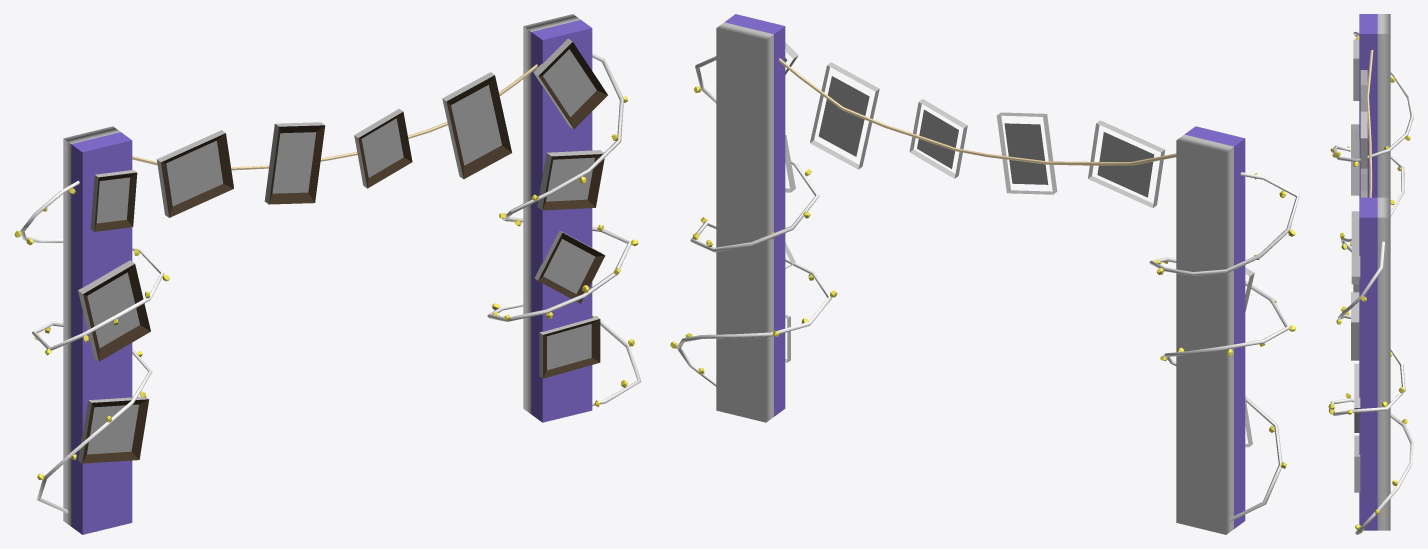
Rendered from SM_WallsDressingRoom_001 1.fbx.
3 renders of one model, left to right at view 1: azimuth 30°, elevation 25°; view 2: azimuth 150°, elevation 25°; view 3: azimuth 270°, elevation 25°, orthographic. The views are drawn at different scales.
Parts seen in each view (by area): view 1: SM_WallDressingRoom_002; view 2: SM_WallDressingRoom_002; view 3: SM_WallDressingRoom_002.
Part boxes in pixels (left/top/right/bottom): SM_WallDressingRoom_002: left=14, top=14, right=641, bottom=534; SM_WallDressingRoom_002: left=670, top=14, right=1299, bottom=534; SM_WallDressingRoom_002: left=1328, top=14, right=1413, bottom=534.
Size of the model in its own units: 159 by 93.55 by 23.13.
